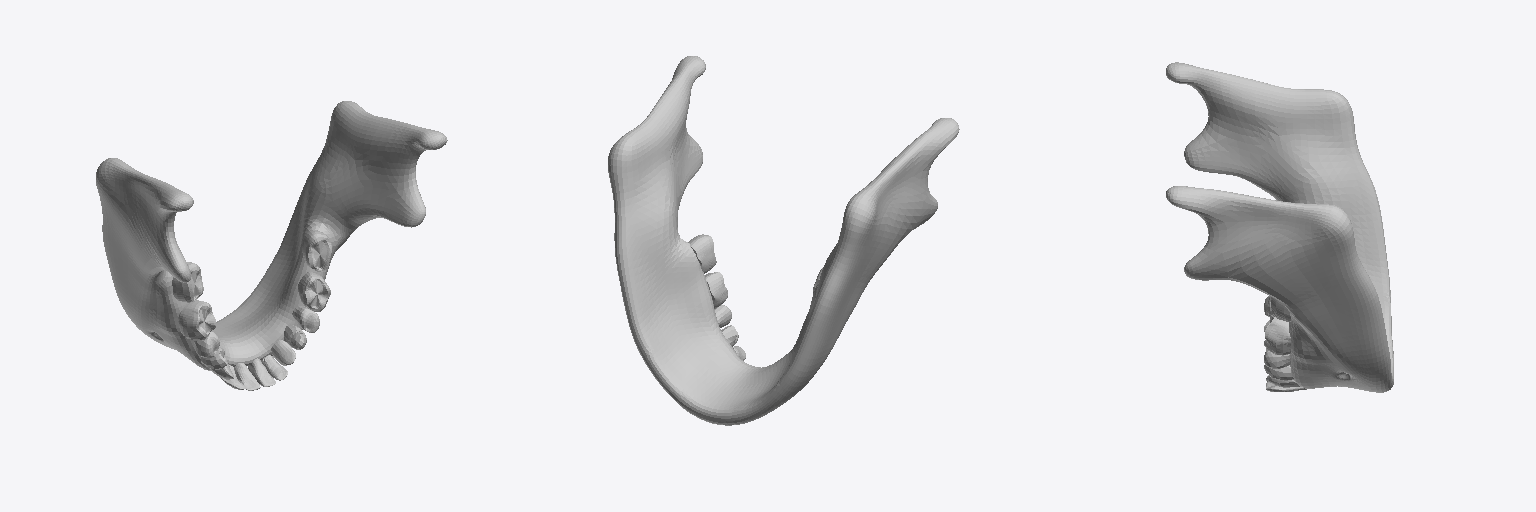
Rendered from jaw.obj.
The picture shows the model from 3 angles: view 1: azimuth 30°, elevation 25°; view 2: azimuth 150°, elevation 25°; view 3: azimuth 270°, elevation 25°; orthographic projection.
Visible parts, largest first — view 1: 12140_Skull_v3_L2; view 2: 12140_Skull_v3_L2; view 3: 12140_Skull_v3_L2.
Part boxes in pixels (x1,y1,x2,y2): 12140_Skull_v3_L2: (96,101,447,390); 12140_Skull_v3_L2: (608,56,959,425); 12140_Skull_v3_L2: (1166,62,1393,392).
Size of the model in its own units: 15.44 by 13.79 by 10.97.